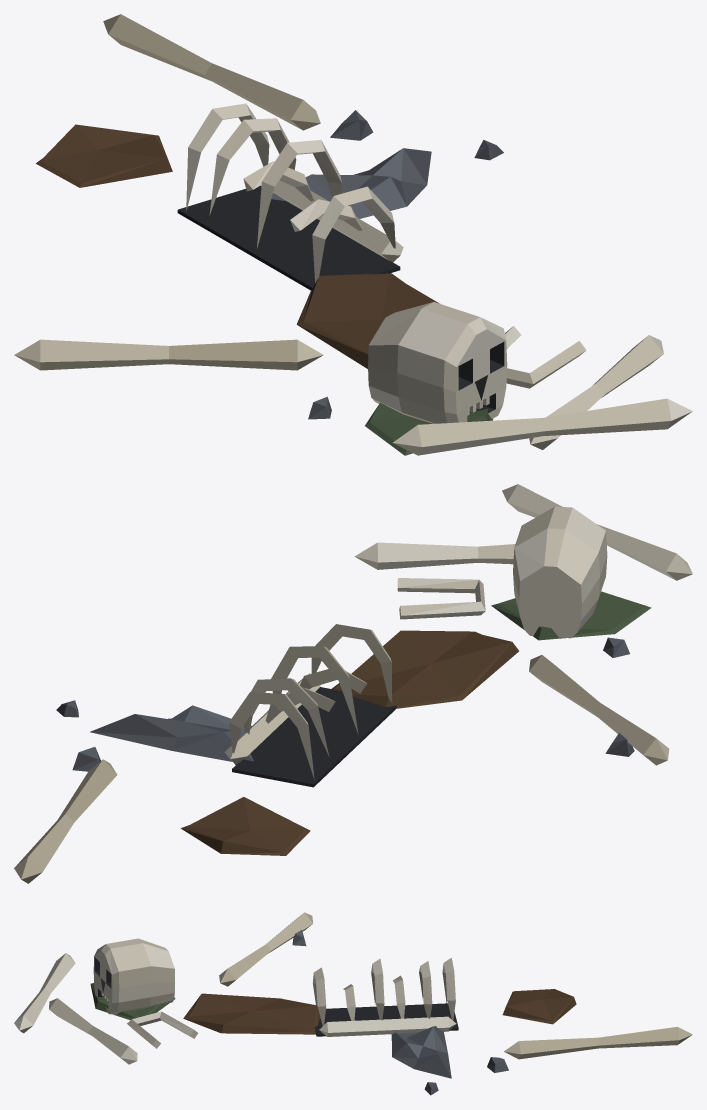
The model's file is bone-scatter.glb.
3 views of the same model, one above another, from view 1: azimuth 30°, elevation 25°; view 2: azimuth 150°, elevation 25°; view 3: azimuth 270°, elevation 25° (orthographic). The views are drawn at different scales.
Parts seen in each view (by area): view 1: bone-scatter; view 2: bone-scatter; view 3: bone-scatter.
Boxes of the visible parts, x1=… form: bone-scatter: x1=14, y1=14, x2=692, y2=455; bone-scatter: x1=14, y1=484, x2=692, y2=883; bone-scatter: x1=14, y1=912, x2=692, y2=1095.
Size of the model in its own units: 0.8792 by 0.155 by 1.47.
